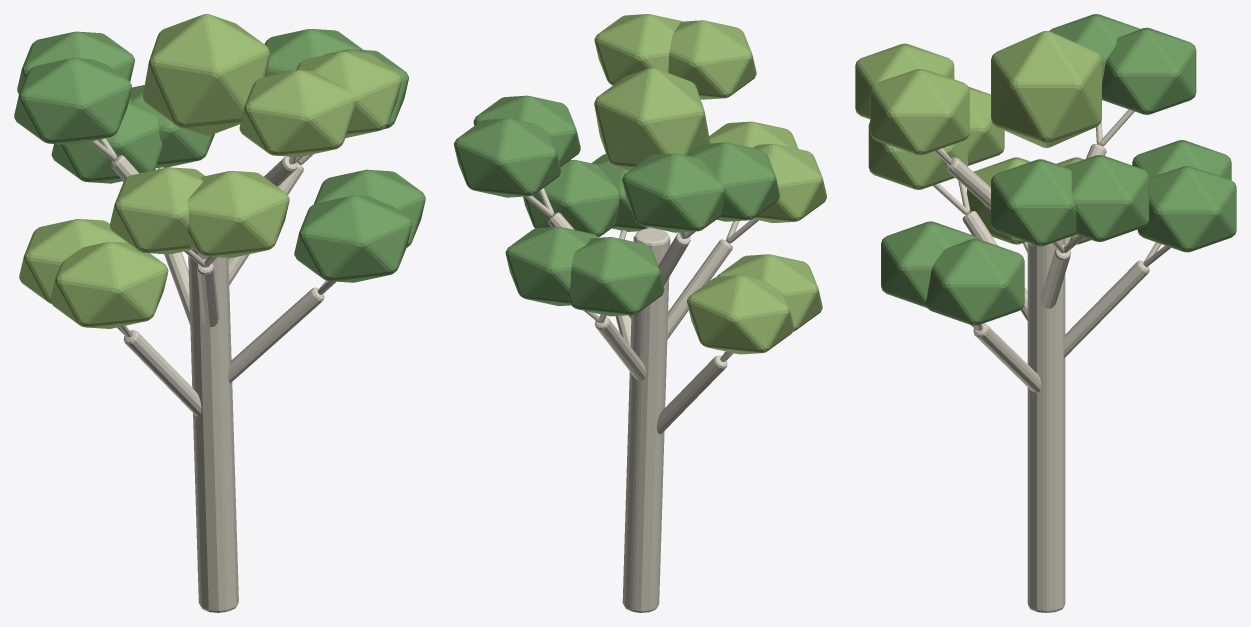
File: prop-birch.glb
The picture shows the model from 3 angles, left to right: view 1: azimuth 30°, elevation 25°; view 2: azimuth 150°, elevation 25°; view 3: azimuth 270°, elevation 25°; orthographic projection. The views are drawn at different scales.
Visible parts, largest first — view 1: Leaf light, Leaf green, Cut limestone; view 2: Leaf green, Leaf light, Cut limestone; view 3: Leaf green, Leaf light, Cut limestone.
Boxes of the visible parts, bbox=[...] form: Leaf light: bbox=[19, 14, 401, 328]; Leaf green: bbox=[14, 29, 425, 282]; Cut limestone: bbox=[89, 138, 336, 612]; Leaf green: bbox=[454, 95, 779, 316]; Leaf light: bbox=[594, 14, 826, 354]; Cut limestone: bbox=[524, 188, 758, 612]; Leaf green: bbox=[881, 14, 1236, 325]; Leaf light: bbox=[855, 30, 1101, 244]; Cut limestone: bbox=[933, 109, 1170, 612].
Size of the model in its own units: 2.89 by 4.57 by 2.77.
